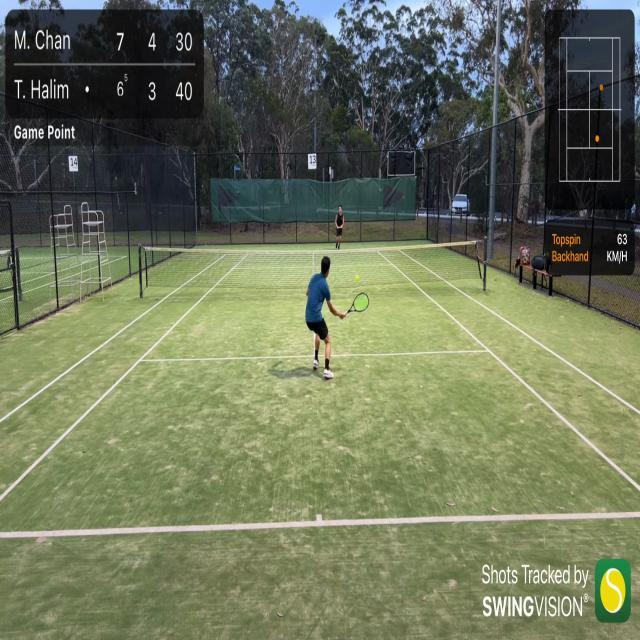ball: (355, 274, 359, 282)
